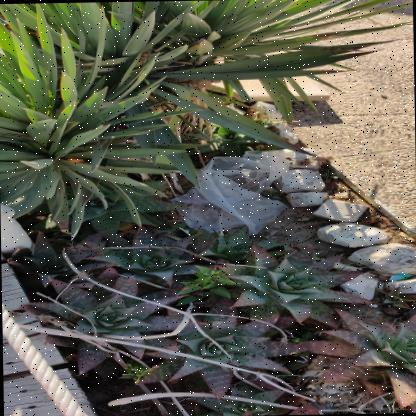Other plastic: (332, 262, 359, 271)
Plastic film: (170, 150, 294, 235), (388, 273, 412, 281)
